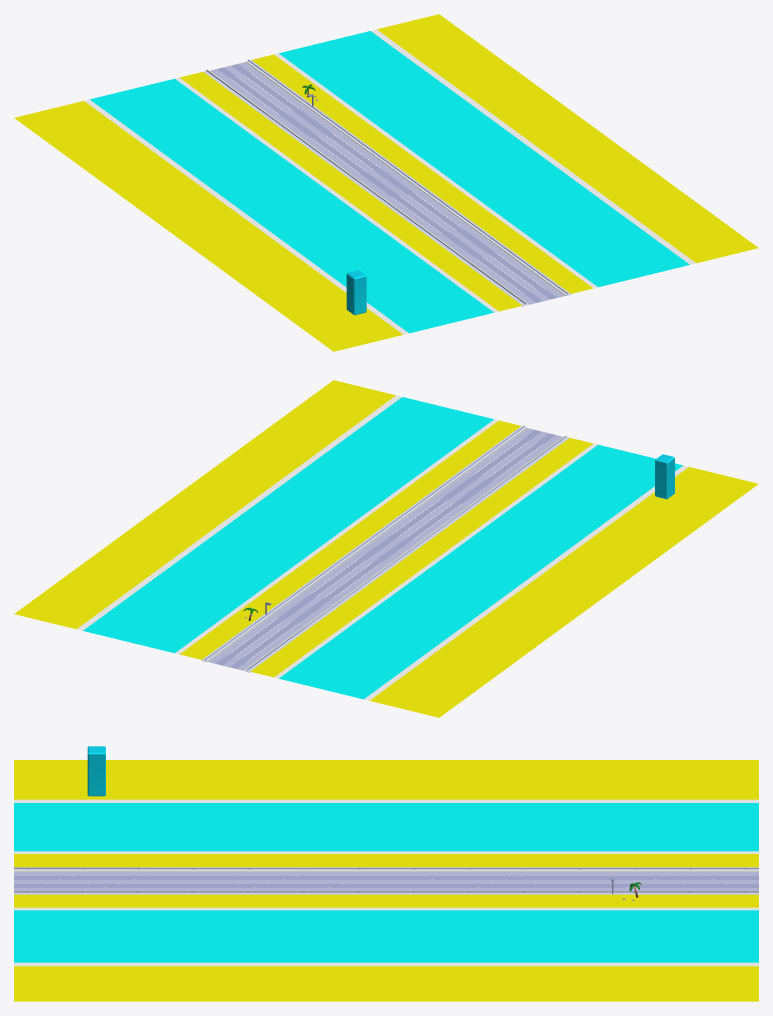
File: Playing-Field.fbx
3 renders of one model, top to bottom at view 1: azimuth 30°, elevation 25°; view 2: azimuth 150°, elevation 25°; view 3: azimuth 270°, elevation 25°, orthographic. The views are drawn at different scales.
Visible parts, largest first — view 1: Env, Road, Building, Road_Div, Road_Div1; view 2: Env, Road, Building, Road_Div, Road_Div1; view 3: Env, Road, Road_Div, Road_Div1, Building.
Boxes of the visible parts, box(x1,y1,x2,y2) form: Env: box(14, 14, 758, 351); Road: box(203, 60, 570, 306); Building: box(346, 270, 366, 315); Road_Div: box(206, 69, 525, 304); Road_Div1: box(248, 59, 567, 294); Env: box(14, 380, 758, 717); Road: box(202, 426, 569, 672); Building: box(655, 454, 674, 499); Road_Div: box(247, 435, 566, 670); Road_Div1: box(205, 425, 524, 660); Env: box(14, 760, 758, 1001); Road: box(14, 867, 758, 894); Road_Div: box(14, 867, 758, 869); Road_Div1: box(14, 891, 758, 892); Building: box(87, 746, 105, 796).
Bounding box in the file's own units: 38158 × 3296 × 49683.
